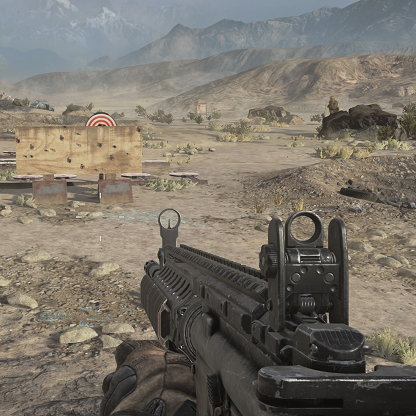target: (85, 113, 117, 126)
